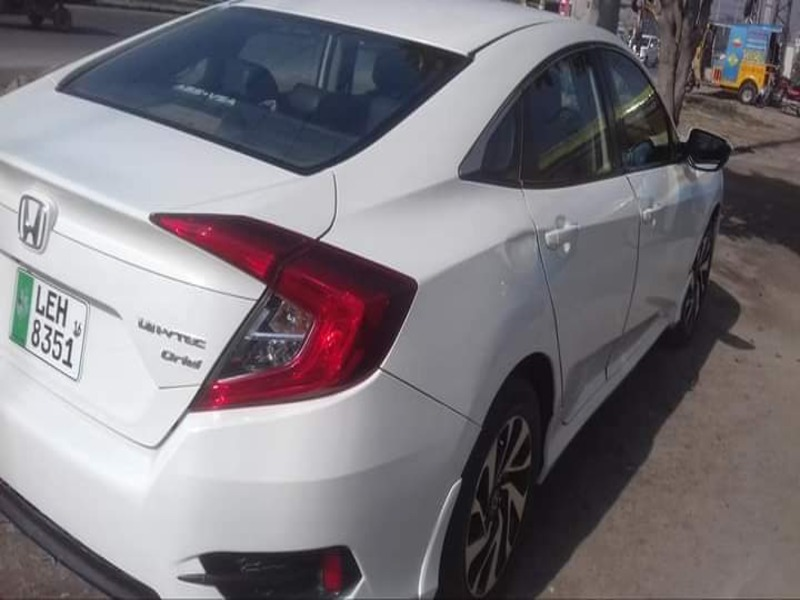License Plate: (6, 259, 89, 383)
